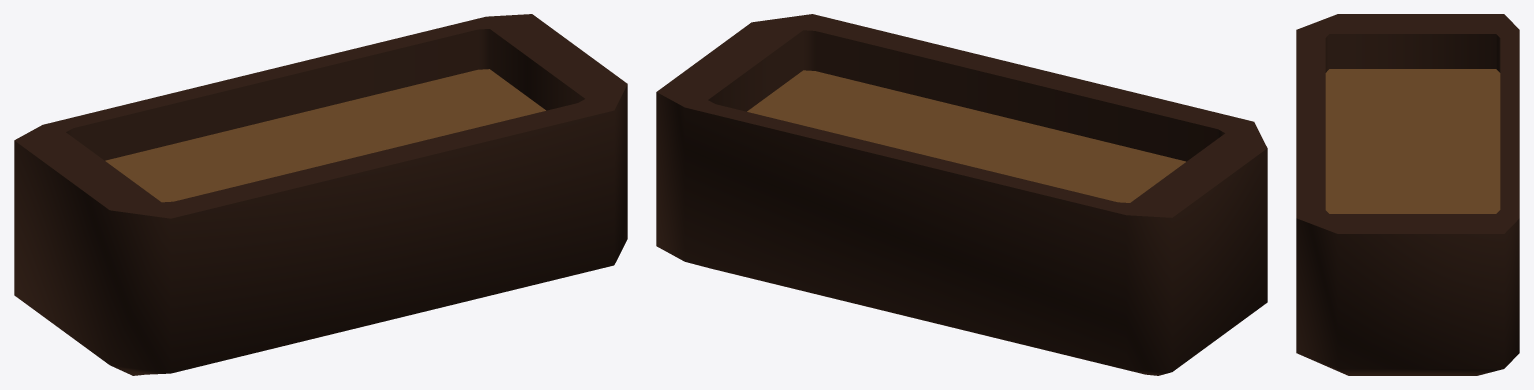
File: WindowFlowerPotV1.fbx
3 renders of one model, left to right at view 1: azimuth 30°, elevation 25°; view 2: azimuth 150°, elevation 25°; view 3: azimuth 270°, elevation 25°, orthographic. The views are drawn at different scales.
Visible parts, largest first — view 1: Cube.106; view 2: Cube.106; view 3: Cube.106.
Boxes of the visible parts, x1,y1,x2,y2 form: Cube.106: (14,14,627,375); Cube.106: (656,14,1267,375); Cube.106: (1296,14,1519,375).
Bounding box in the file's own units: 64.5 × 27.66 × 21.11.
